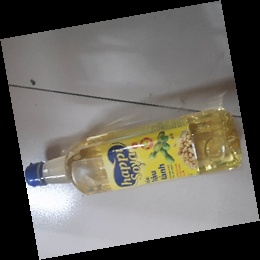Happy Soya: (24, 107, 244, 198)
